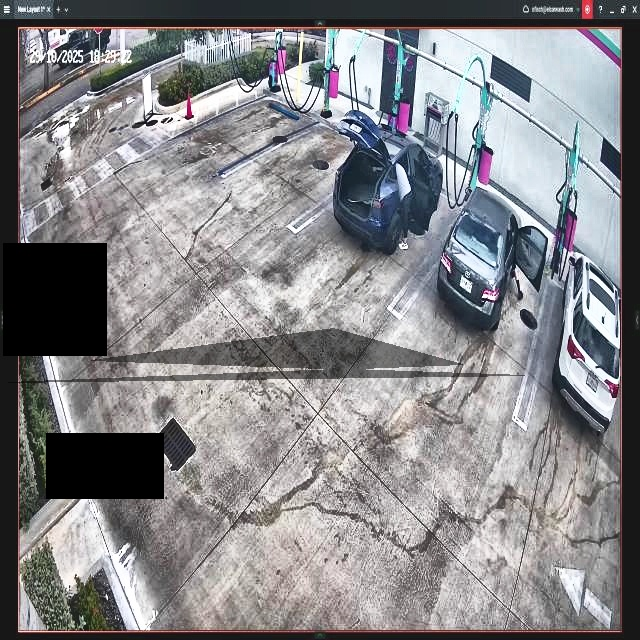Car: (333, 110, 443, 252), (438, 183, 542, 325)
